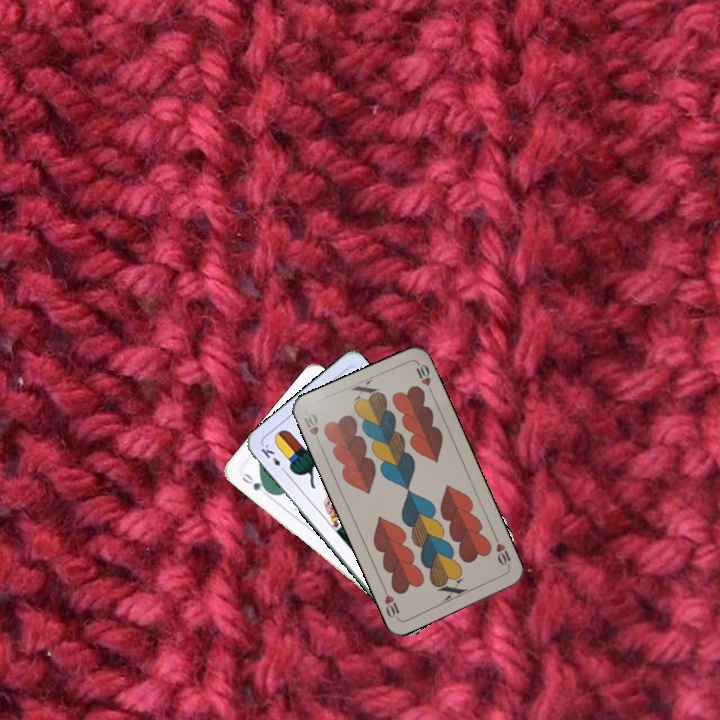EK: (257, 440, 289, 476)
GO: (238, 468, 273, 496)
H10: (299, 409, 324, 448), (490, 532, 514, 571)
